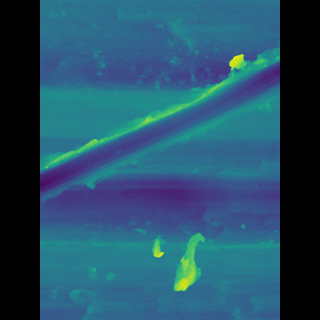Loch: (68, 58, 251, 199), (167, 233, 193, 289)
